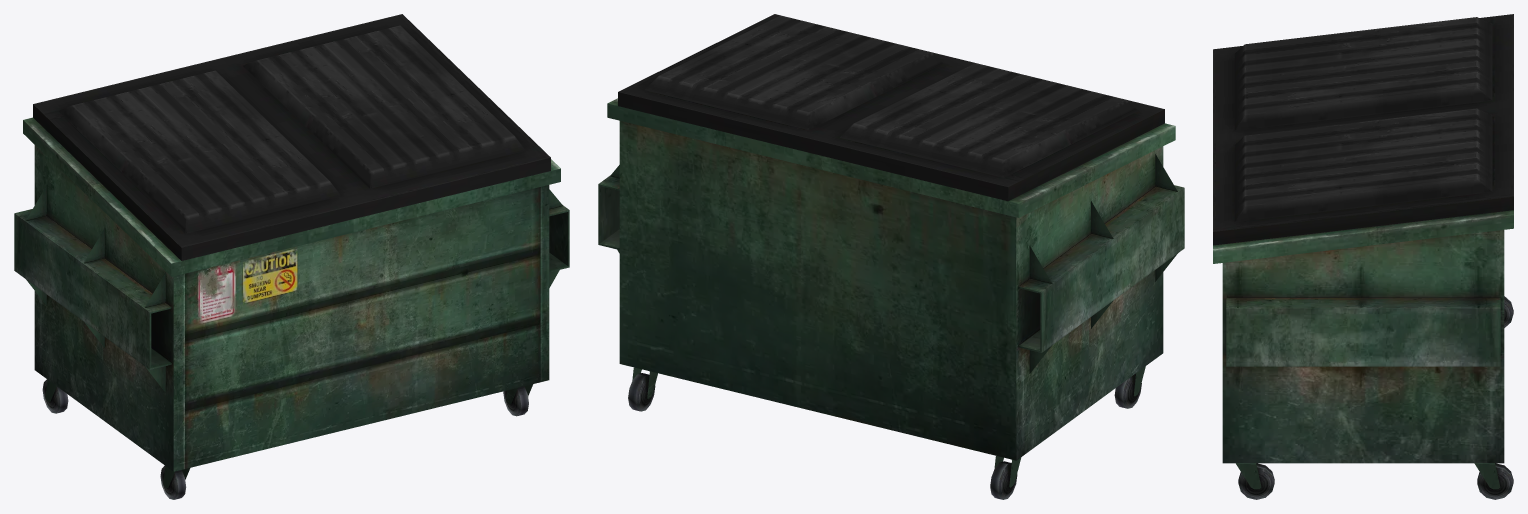
Rendered from dumpster.glb.
3 renders of one model, left to right at view 1: azimuth 30°, elevation 25°; view 2: azimuth 150°, elevation 25°; view 3: azimuth 270°, elevation 25°, orthographic. The views are drawn at different scales.
Visible parts, largest first — view 1: dumpster; view 2: dumpster; view 3: dumpster.
Part boxes in pixels (x1,y1,x2,y2): dumpster: (14, 14, 569, 499); dumpster: (598, 14, 1184, 499); dumpster: (1213, 14, 1513, 499).
Size of the model in its own units: 2.19 by 1.55 by 1.34.
1 material, 1 textured.
